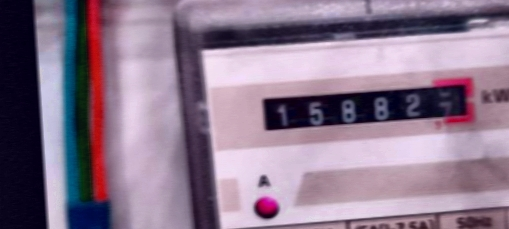1: (274, 99, 290, 125)
2: (404, 89, 420, 114)
5: (306, 96, 324, 123)
7: (437, 95, 452, 115)
8: (339, 95, 357, 122), (372, 92, 389, 118)
screen: (247, 66, 484, 144)
